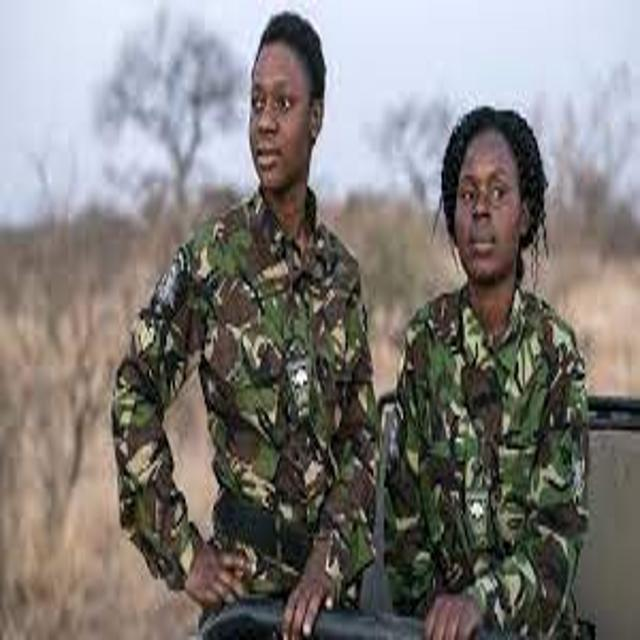ranger: (87, 6, 420, 633), (344, 67, 633, 640)
